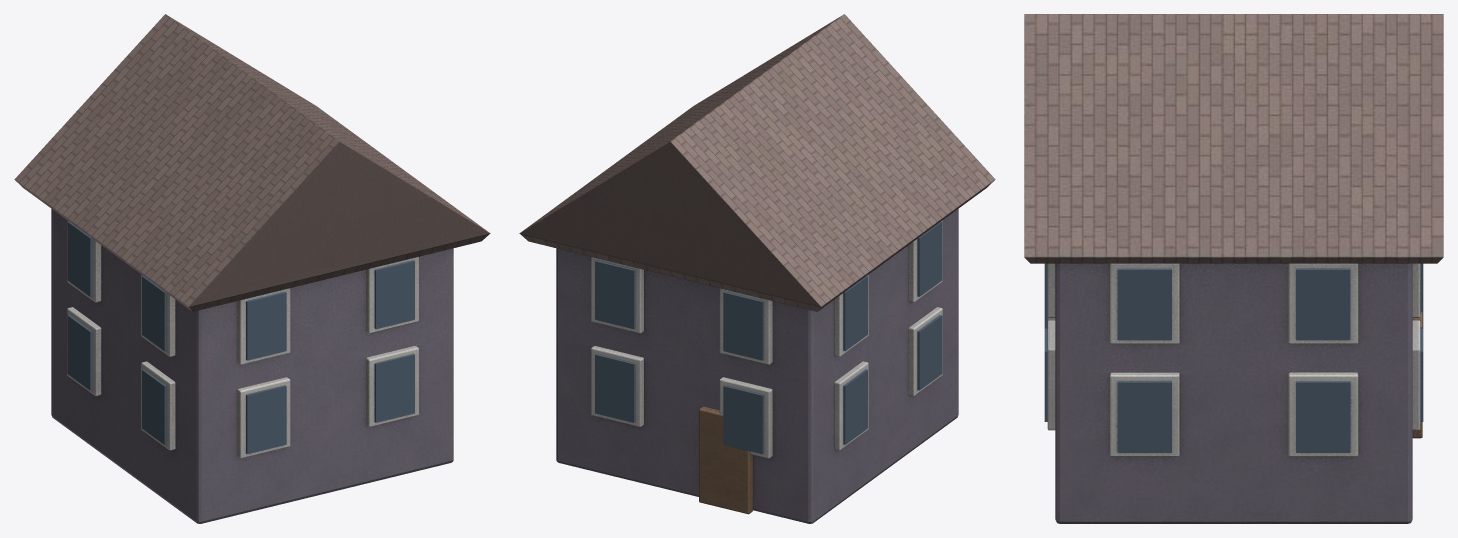
Rendered from reihe_horror.glb.
The picture shows the model from 3 angles, left to right: view 1: azimuth 30°, elevation 25°; view 2: azimuth 150°, elevation 25°; view 3: azimuth 270°, elevation 25°; orthographic projection. The views are drawn at different scales.
Visible parts, largest first — view 1: reihe_horror, reihe_horror_details; view 2: reihe_horror, reihe_horror_details; view 3: reihe_horror, reihe_horror_details.
Boxes of the visible parts, x1,y1,x2,y2 form: reihe_horror: (14, 14, 490, 523); reihe_horror_details: (67, 221, 414, 453); reihe_horror: (519, 14, 995, 523); reihe_horror_details: (595, 221, 942, 453); reihe_horror: (1024, 14, 1443, 523); reihe_horror_details: (1044, 263, 1423, 452).
Bounding box in the file's own units: 0.54 × 0.62 × 0.54.
Materials: 2 (1 with a texture image).
